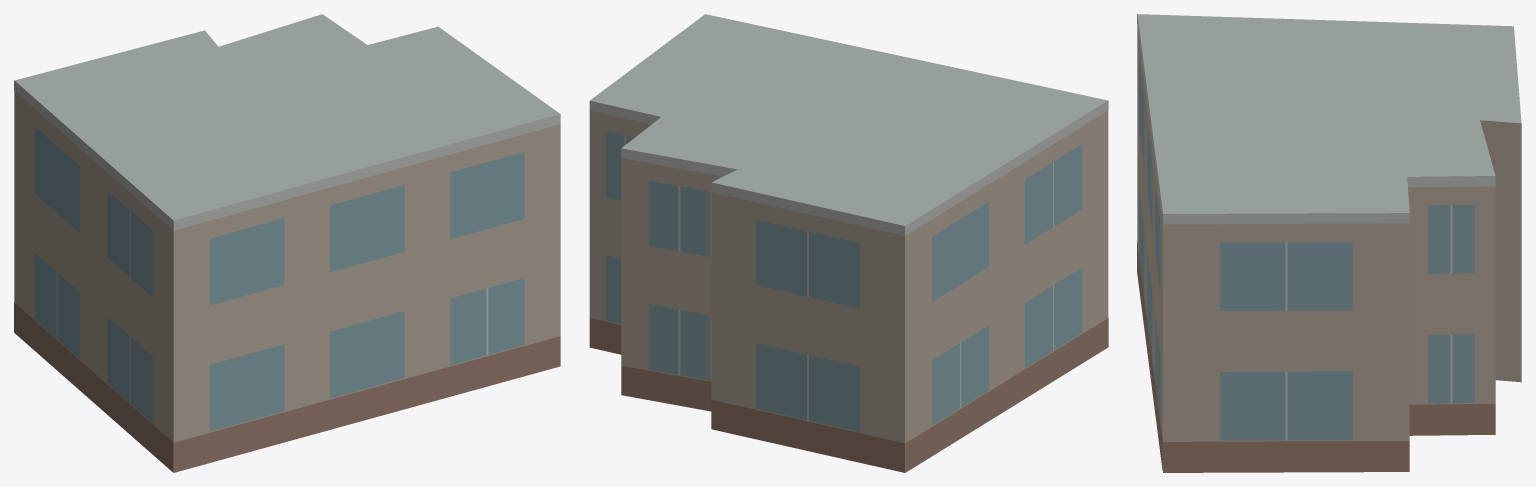
Rendered from survey-upis-32644867.glb.
The picture shows the model from 3 angles, left to right: view 1: azimuth 30°, elevation 25°; view 2: azimuth 150°, elevation 25°; view 3: azimuth 270°, elevation 25°; orthographic projection. The views are drawn at different scales.
Parts seen in each view (by area): view 1: survey-upis-32644867.tmp; view 2: survey-upis-32644867.tmp; view 3: survey-upis-32644867.tmp.
Part boxes in pixels (<box>): survey-upis-32644867.tmp: <box>14,14,560,472</box>; survey-upis-32644867.tmp: <box>589,14,1108,472</box>; survey-upis-32644867.tmp: <box>1137,14,1521,472</box>.
Bounding box in the file's own units: 10.12 × 6.1 × 8.22.
